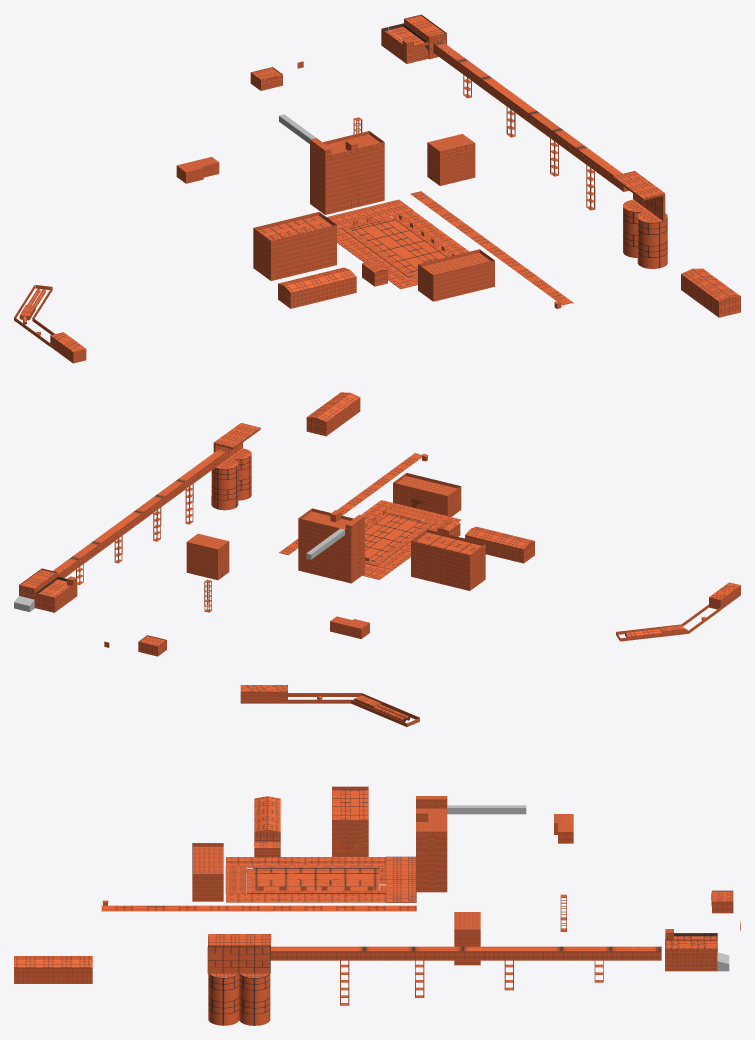
The picture shows the model from 3 angles, top to bottom: view 1: azimuth 30°, elevation 25°; view 2: azimuth 150°, elevation 25°; view 3: azimuth 270°, elevation 25°; orthographic projection. The views are drawn at different scales.
Parts seen in each view (by area): view 1: Box202, Box203, Box071, Box157, Box007, Box004, Box189, Box003, Box191, Cylinder001, Box198, Box159 (+8 smaller); view 2: Box202, Box203, Box071, Box157, Box007, Box004, Box003, Box189, Cylinder002, Box198, Box191, Cylinder001 (+7 smaller); view 3: Box071, Box157, Box202, Box203, Box003, Box191, Box007, Box196, Box001, Cylinder002, Cylinder001, Box162 (+9 smaller).
Boxes of the visible parts, x1,y1,x2,y2 form: Box202: (310,131,384,214); Box203: (253,212,336,280); Box071: (433,41,628,191); Box157: (341,214,451,277); Box007: (418,249,494,301); Box004: (427,134,475,185); Box189: (278,267,356,308); Box003: (681,268,740,317); Box191: (410,191,572,305); Cylinder001: (637,210,667,268); Box198: (381,23,428,63); Box159: (337,228,417,289); Box202: (298,508,364,583); Box203: (411,529,485,590); Box071: (53,449,226,577); Box157: (365,510,436,566); Box007: (393,473,461,516); Box004: (186,533,229,580); Box003: (306,392,360,436); Box189: (465,526,534,563); Cylinder002: (211,458,238,510); Box198: (35,576,77,612); Box191: (279,453,421,555); Cylinder001: (229,448,251,500); Box071: (270,946,661,960); Box157: (247,865,385,893); Box202: (416,796,447,892); Box203: (332,786,368,856); Box003: (14,956,92,983); Box191: (102,905,416,911); Box007: (192,843,223,901); Box196: (665,939,717,971); Box001: (207,946,270,973); Cylinder002: (239,973,270,1025); Cylinder001: (208,973,239,1025); Box162: (226,893,385,902).
Bounding box in the file's own units: 266 × 44.05 × 277.
226 materials, 214 textured.
